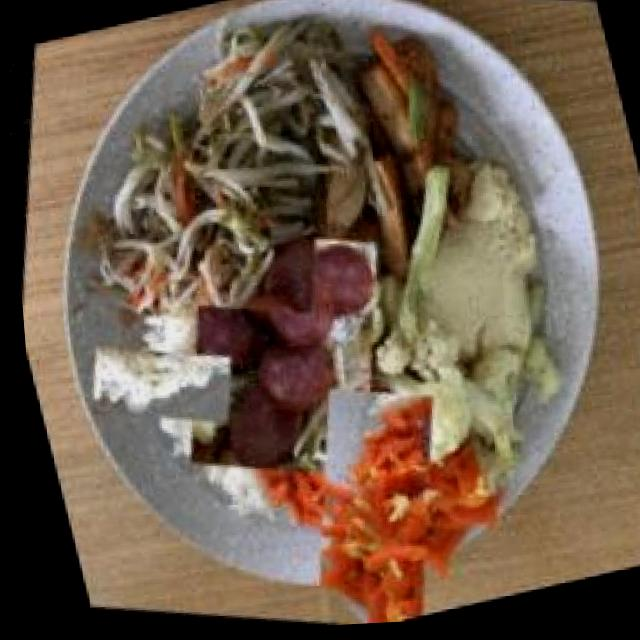carrot_eggs: (232, 386, 500, 632)
chinese_sausage: (127, 194, 428, 518)
mung_bean_sprouts: (27, 0, 388, 361)
rice: (79, 312, 235, 466)
